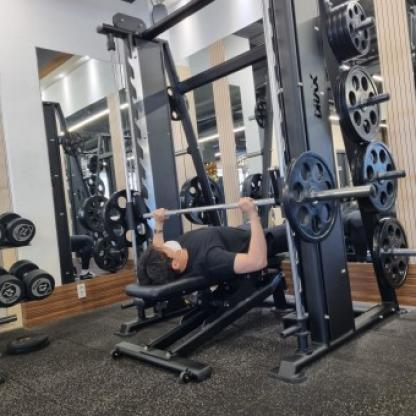smith machine: (95, 0, 416, 387)
